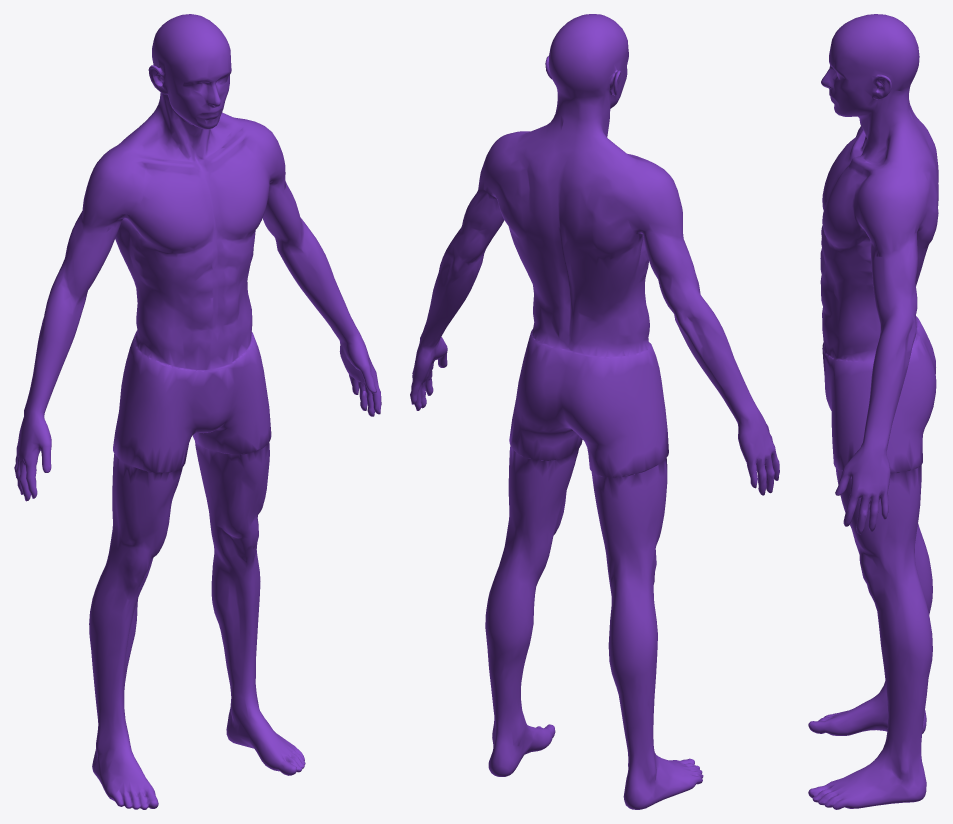
The model's file is zen_m_b02_d3_18000.glb.
The picture shows the model from 3 angles, left to right: view 1: azimuth 30°, elevation 25°; view 2: azimuth 150°, elevation 25°; view 3: azimuth 270°, elevation 25°; orthographic projection.
Parts seen in each view (by area): view 1: mesh_node; view 2: mesh_node; view 3: mesh_node.
Boxes of the visible parts, <box> form: mesh_node: <box>14,14,381,809</box>; mesh_node: <box>410,14,779,809</box>; mesh_node: <box>808,14,938,809</box>.
Bounding box in the file's own units: 0.8667 × 1.75 × 0.2759.
